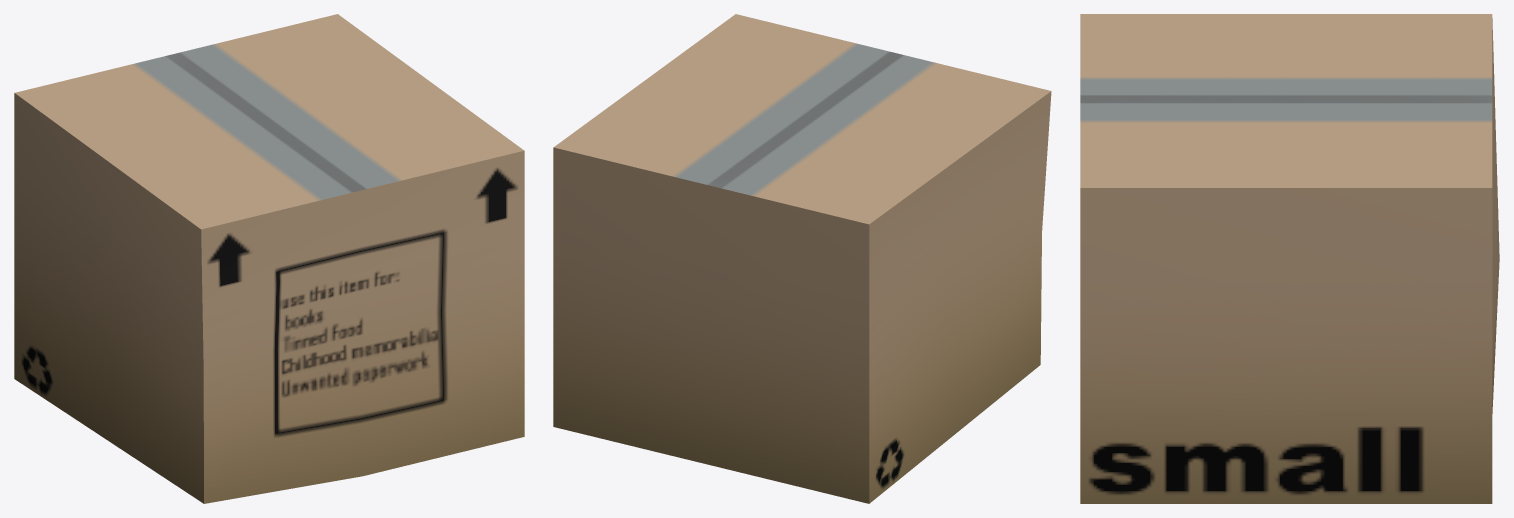
The model's file is CardboardBox.fbx.
3 views of the same model, side by side, from view 1: azimuth 30°, elevation 25°; view 2: azimuth 150°, elevation 25°; view 3: azimuth 270°, elevation 25° (orthographic). The views are drawn at different scales.
Parts seen in each view (by area): view 1: CardboardBox; view 2: CardboardBox; view 3: CardboardBox.
Boxes of the visible parts, x1=… form: CardboardBox: x1=14, y1=14, x2=524, y2=503; CardboardBox: x1=553, y1=14, x2=1051, y2=503; CardboardBox: x1=1080, y1=14, x2=1499, y2=503.
Bounding box in the file's own units: 3.1 × 2.59 × 3.12.
